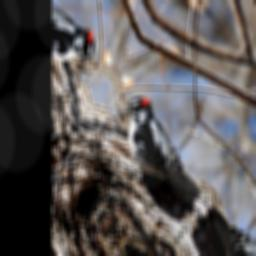Woodpecker: (105, 84, 216, 220)
